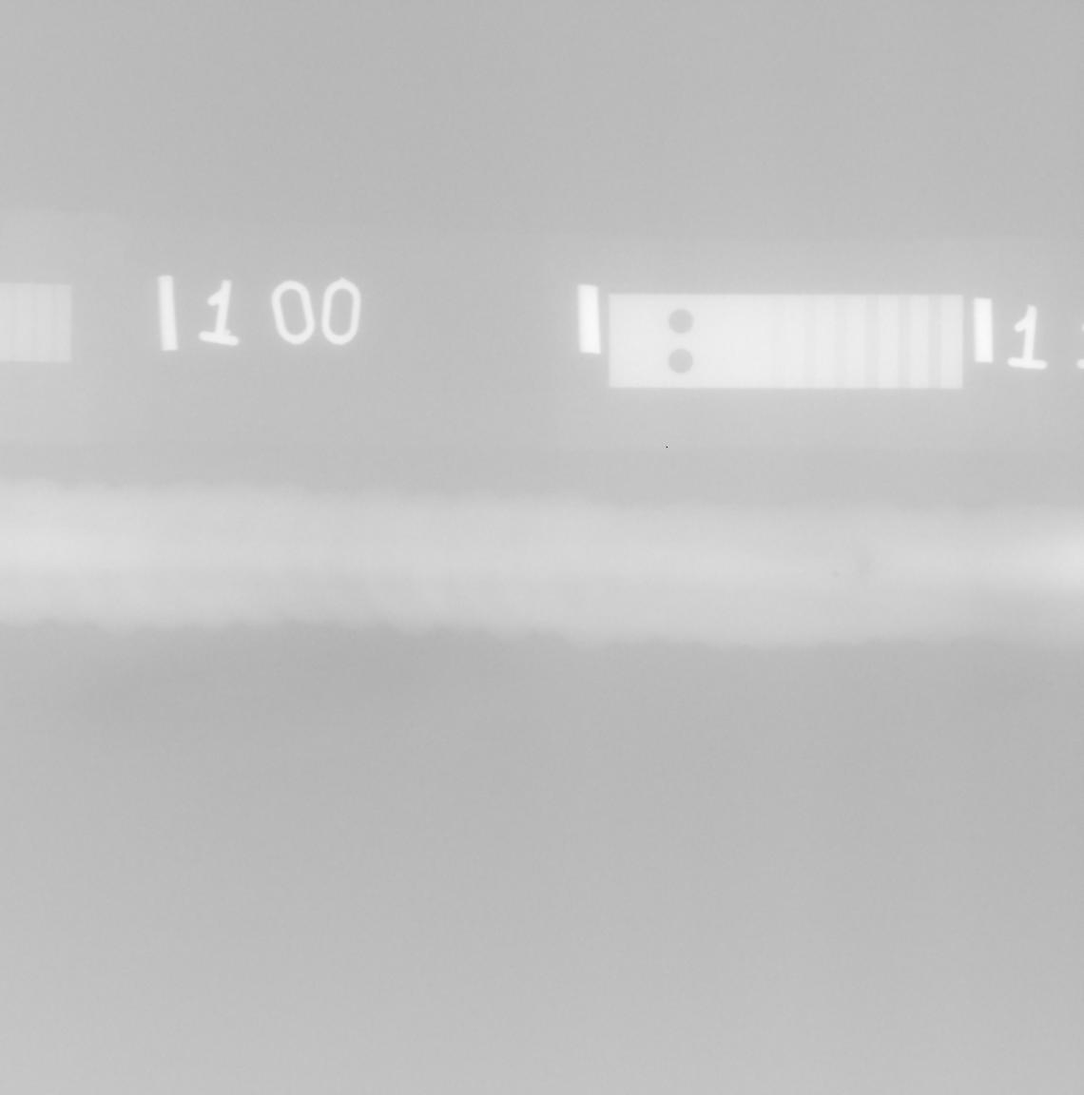Inclusion: (858, 565, 871, 578)
Pore/Porosity: (832, 570, 840, 579)
Reference Standard 2: (607, 293, 964, 389)
Undercut: (956, 501, 994, 510)
